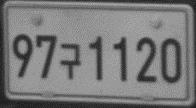0: (159, 37, 181, 84)
1: (88, 35, 104, 81), (112, 36, 128, 82)
2: (135, 36, 157, 83)
7: (34, 33, 57, 80)
9: (11, 32, 34, 79)
구: (58, 42, 83, 80)
